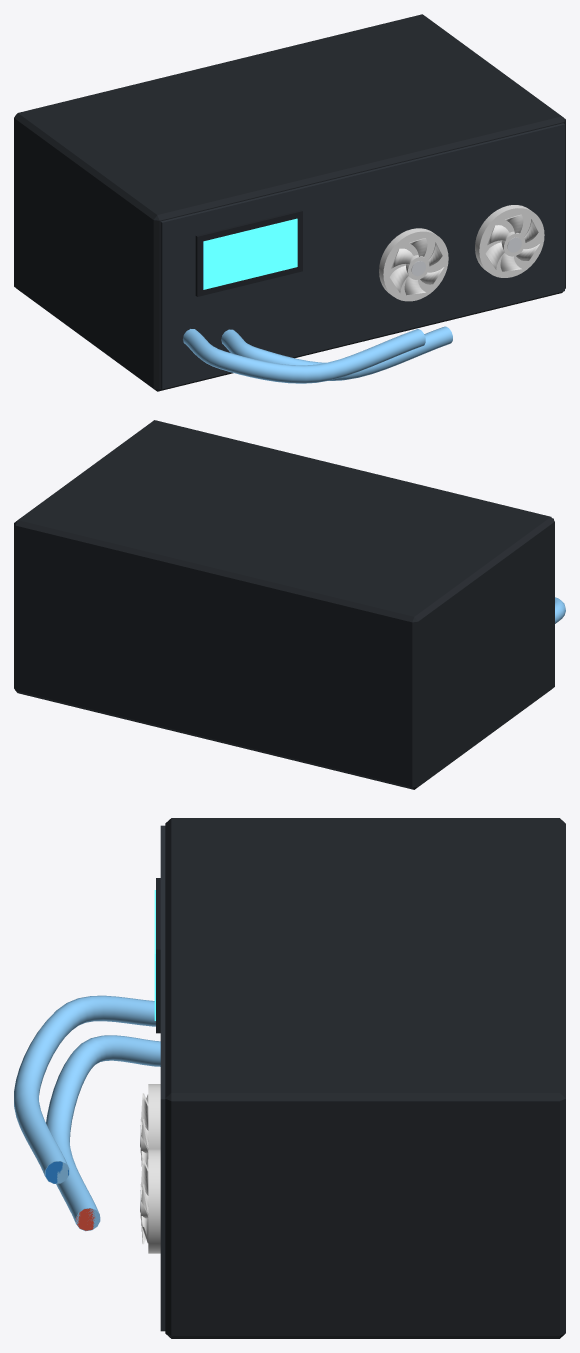
The model's file is hw_cool_cdu_inrack.glb.
The picture shows the model from 3 angles, top to bottom: view 1: azimuth 30°, elevation 25°; view 2: azimuth 150°, elevation 25°; view 3: azimuth 270°, elevation 25°; orthographic projection. The views are drawn at different scales.
Visible parts, largest first — view 1: Body, Flow_0, Flow_1, Rotor_Z_1, Rotor_Z_0; view 2: Body; view 3: Body, Flow_0, Flow_1, Rotor_Z_1.
Part boxes in pixels (box(x1,y1,x2,y2)): Body: box(14, 14, 565, 391); Flow_0: box(183, 329, 425, 383); Flow_1: box(221, 326, 452, 380); Rotor_Z_1: box(485, 214, 539, 271); Rotor_Z_0: box(389, 238, 444, 295); Body: box(14, 420, 554, 789); Body: box(45, 818, 565, 1338); Flow_0: box(14, 995, 155, 1183); Flow_1: box(46, 1035, 160, 1231); Rotor_Z_1: box(140, 1158, 148, 1244).
Bounding box in the file's own units: 0.43 × 0.176 × 0.3581.
